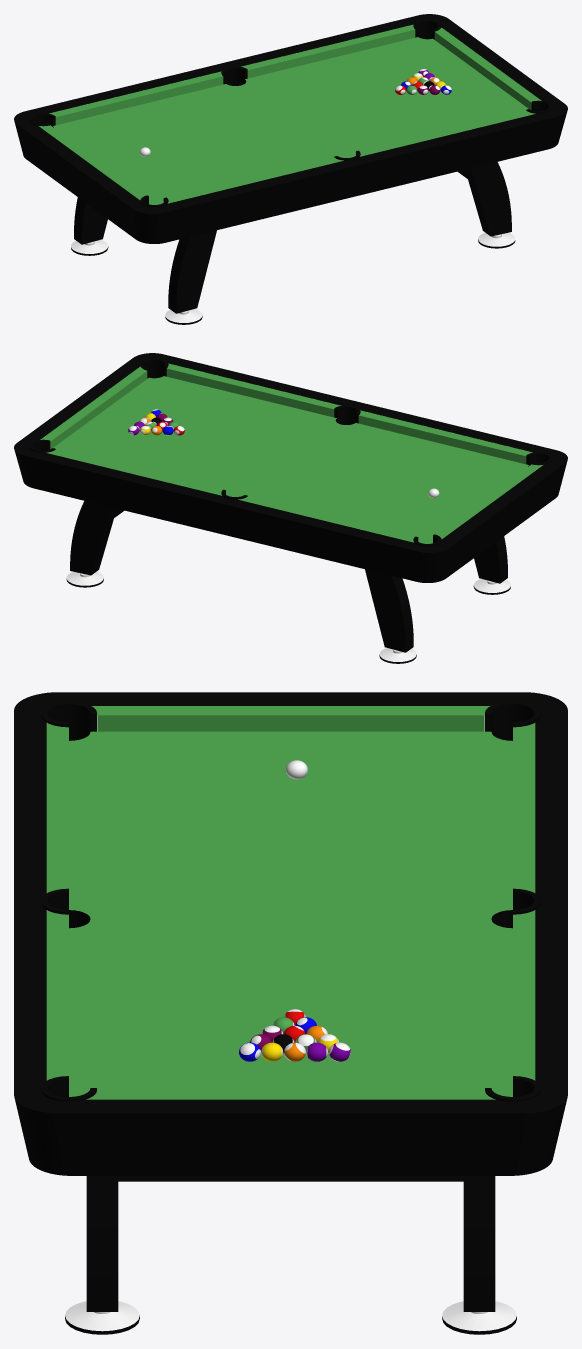
Rendered from pool-table-9ft.glb.
3 views of the same model, one above another, from view 1: azimuth 30°, elevation 25°; view 2: azimuth 150°, elevation 25°; view 3: azimuth 270°, elevation 25° (orthographic). The views are drawn at different scales.
Visible parts, largest first — view 1: Mesh45 Group1 Model, Mesh3 Group3 Group1 Model, Mesh7 Group5 Group1 Model, Mesh1 Group2 Group1 Model, Mesh18 patte2 Group1 Model, Mesh9 patte1 Group1 Model, Mesh27 patte3 Group1 Model; view 2: Mesh45 Group1 Model, Mesh1 Group2 Group1 Model, Mesh5 Group4 Group1 Model, Mesh3 Group3 Group1 Model, Mesh36 patte4 Group1 Model, Mesh27 patte3 Group1 Model, Mesh9 patte1 Group1 Model; view 3: Mesh45 Group1 Model, Mesh5 Group4 Group1 Model, Mesh7 Group5 Group1 Model, Mesh46 Group1 Model, Mesh18 patte2 Group1 Model, Mesh36 patte4 Group1 Model.
Boxes of the visible parts, <box> form: Mesh45 Group1 Model: <box>14,14,567,243</box>; Mesh3 Group3 Group1 Model: <box>168,230,216,313</box>; Mesh7 Group5 Group1 Model: <box>465,162,511,236</box>; Mesh1 Group2 Group1 Model: <box>74,197,107,244</box>; Mesh18 patte2 Group1 Model: <box>478,232,515,248</box>; Mesh9 patte1 Group1 Model: <box>165,309,202,324</box>; Mesh27 patte3 Group1 Model: <box>71,240,108,255</box>; Mesh45 Group1 Model: <box>14,353,567,582</box>; Mesh1 Group2 Group1 Model: <box>365,569,413,652</box>; Mesh5 Group4 Group1 Model: <box>70,501,116,575</box>; Mesh3 Group3 Group1 Model: <box>474,536,507,583</box>; Mesh36 patte4 Group1 Model: <box>66,571,103,587</box>; Mesh27 patte3 Group1 Model: <box>379,648,416,663</box>; Mesh9 patte1 Group1 Model: <box>473,579,510,594</box>; Mesh45 Group1 Model: <box>14,692,567,1175</box>; Mesh5 Group4 Group1 Model: <box>463,1176,495,1311</box>; Mesh7 Group5 Group1 Model: <box>86,1176,118,1311</box>; Mesh46 Group1 Model: <box>118,1176,463,1181</box>; Mesh18 patte2 Group1 Model: <box>65,1301,139,1334</box>; Mesh36 patte4 Group1 Model: <box>442,1301,516,1334</box>.
Bounding box in the file's own units: 2.74 × 0.8 × 1.52.
